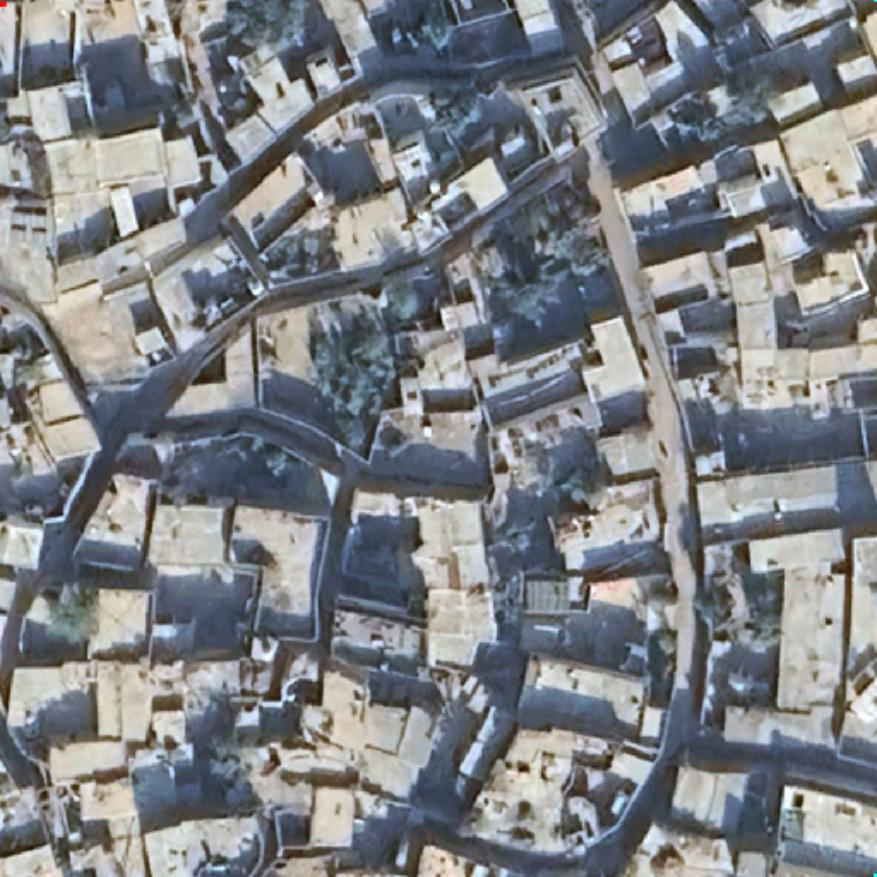Solarpanel: (524, 576, 572, 614)
